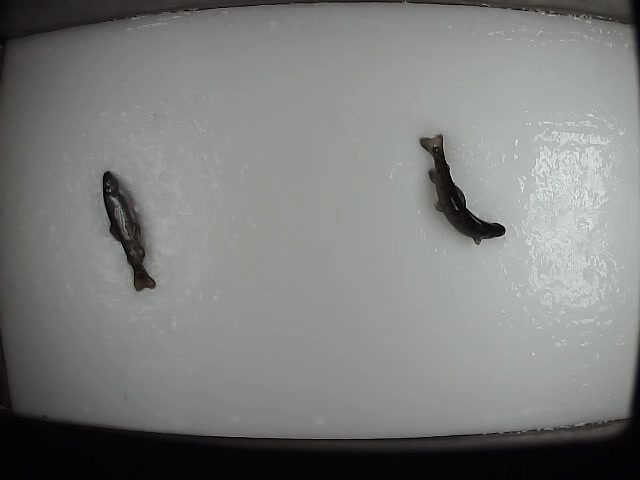fish: (417, 133, 509, 247), (99, 170, 159, 294)
